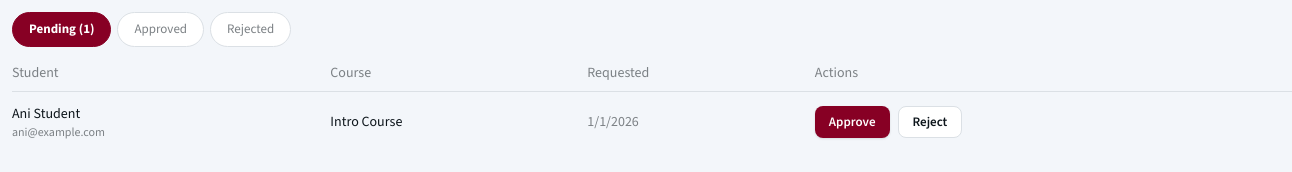
Test: ParishJoinRequestsManager › rejects a pending request and shows a success message
The image size is (1292, 172).
Step 1. Click the button "Reject" → click(930, 122), box [898, 106, 962, 138]
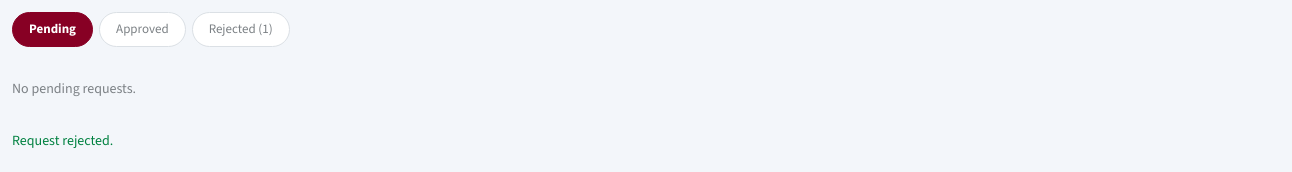
expect the text "Request rejected." is shown: met, box [12, 131, 113, 150]
